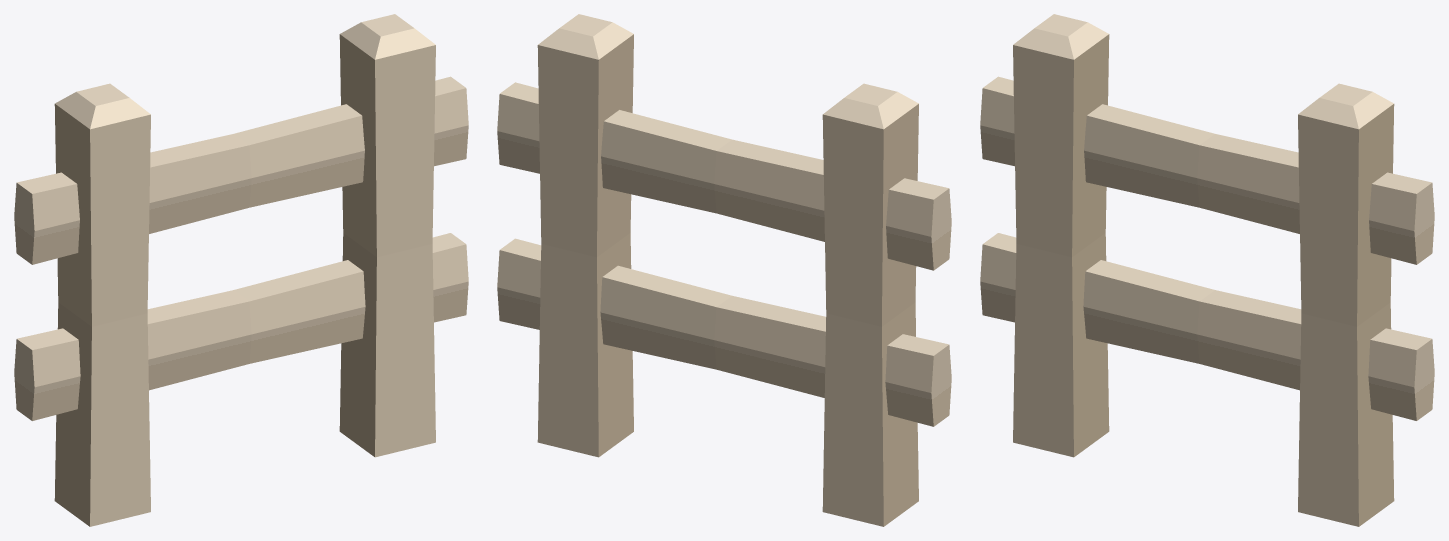
Rendered from W.Zabor_model.gltf.
3 views of the same model, side by side, from view 1: azimuth 30°, elevation 25°; view 2: azimuth 150°, elevation 25°; view 3: azimuth 330°, elevation 25° (orthographic).
Parts seen in each view (by area): view 1: mesh; view 2: mesh; view 3: mesh.
Boxes of the visible parts, <box> form: mesh: <box>14,14,468,526</box>; mesh: <box>497,14,951,526</box>; mesh: <box>980,14,1434,526</box>.
Bounding box in the file's own units: 2 × 1.81 × 0.2812.
Materials: 1 (1 with a texture image).
